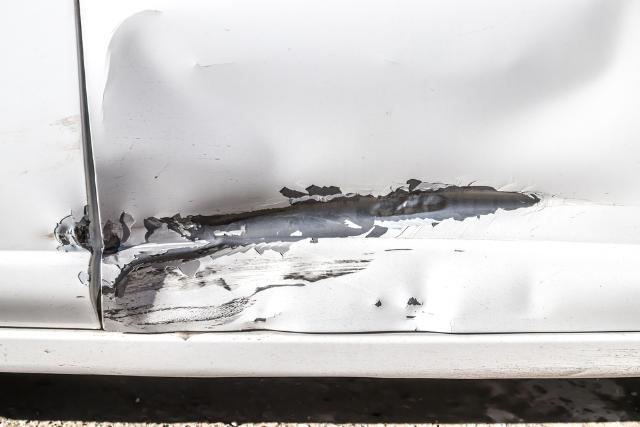Door: (81, 16, 640, 359)
Fender: (6, 66, 92, 334)
